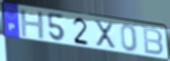0: (119, 24, 139, 53)
2: (71, 17, 90, 47)
5: (46, 11, 66, 44)
B: (142, 26, 165, 57)
H: (19, 9, 47, 41)
X: (94, 19, 118, 51)
